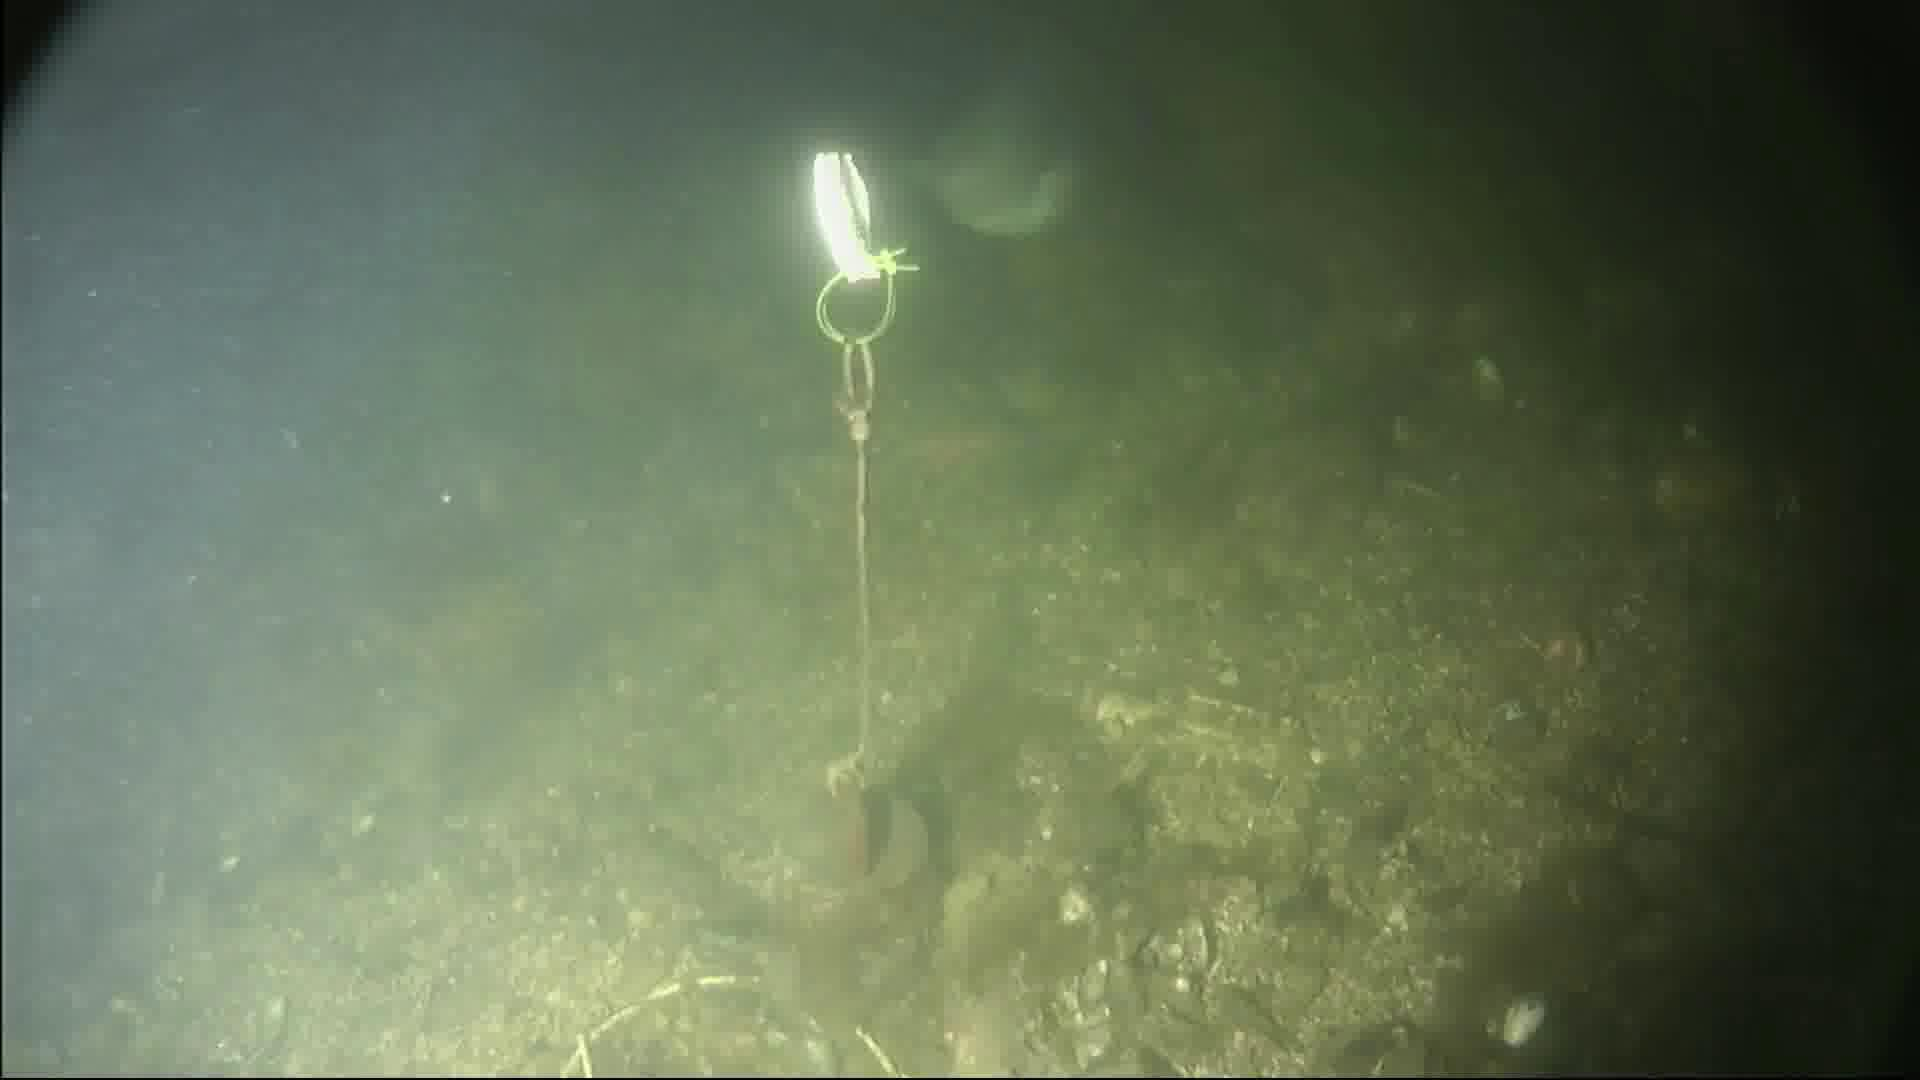fish: (905, 93, 1087, 241)
